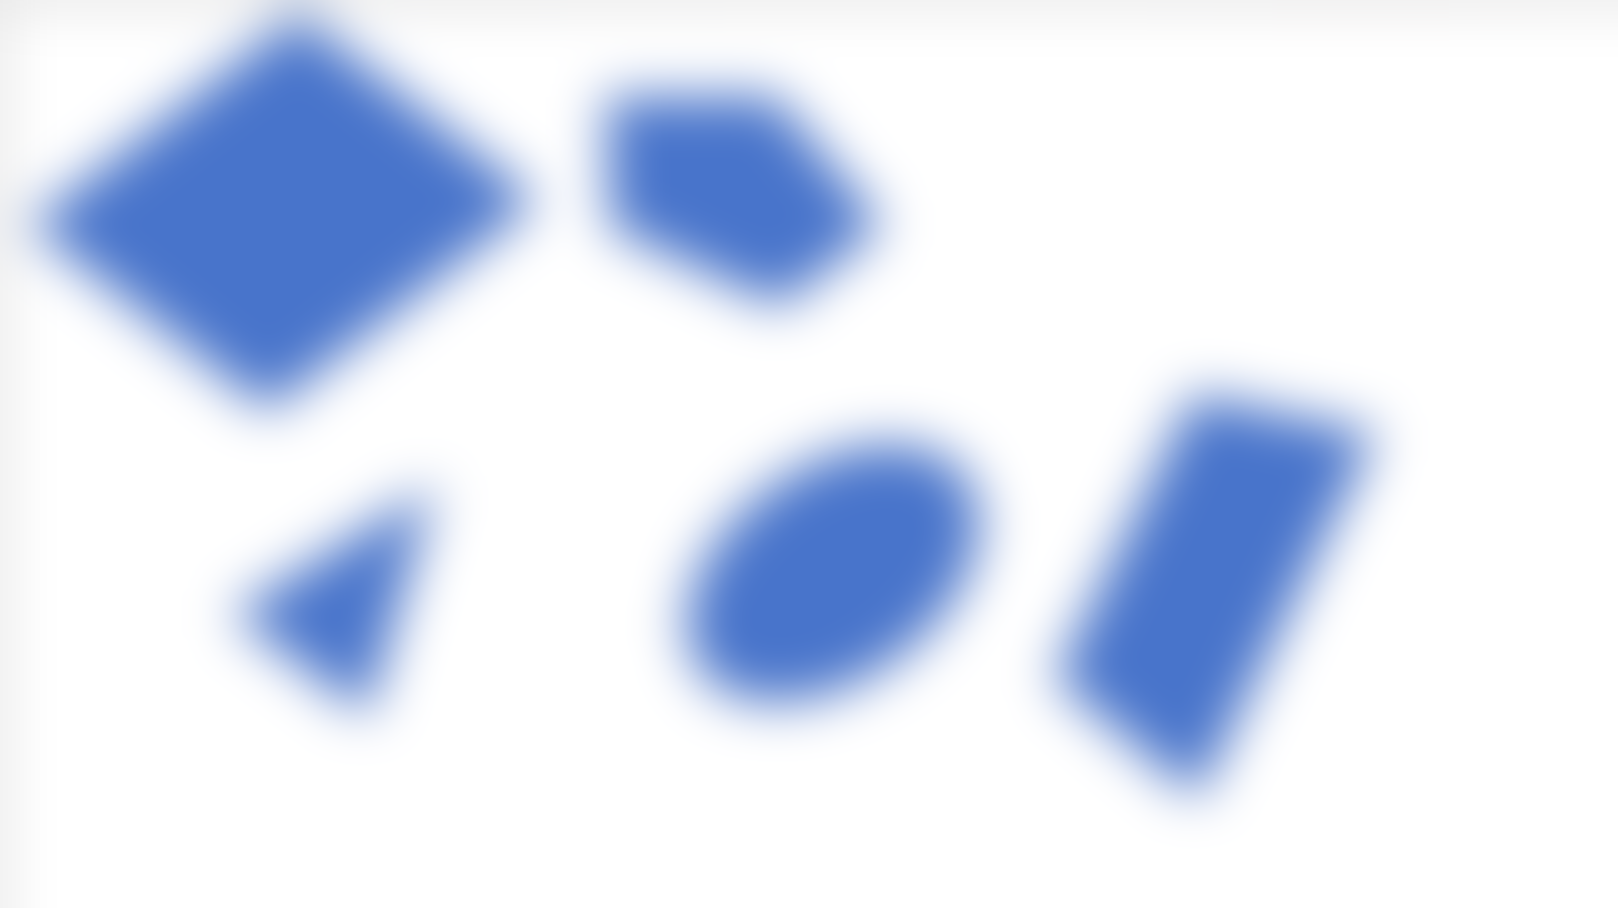circle: (657, 417, 1015, 735)
parallelogram: (30, 11, 549, 388)
pentagon: (570, 49, 918, 333)
trapezium: (1032, 379, 1414, 824)
triangle: (226, 473, 457, 730)
